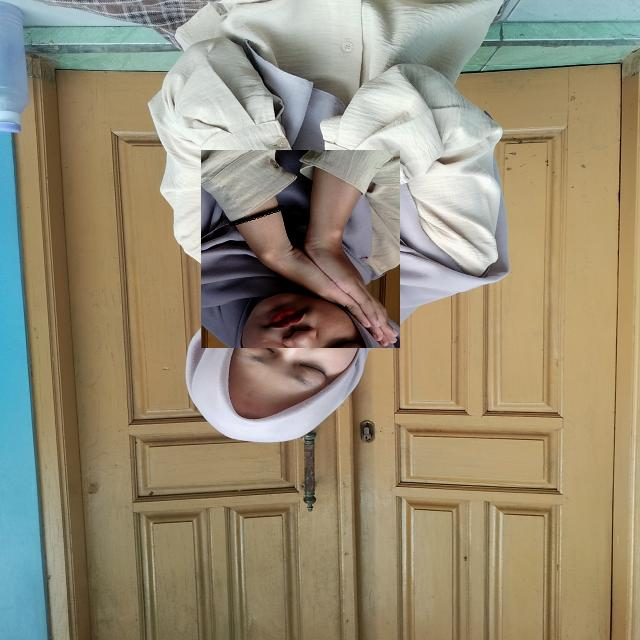tidur: (201, 150, 400, 348)
